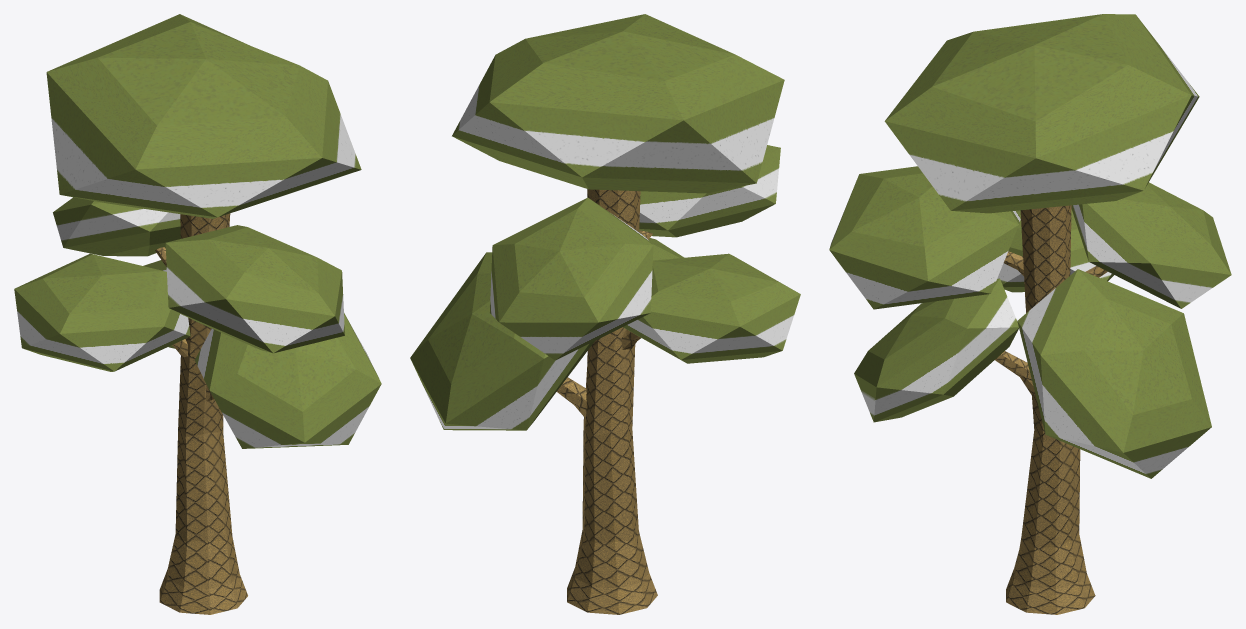
The model's file is tree2.obj.
The picture shows the model from 3 angles, left to right: view 1: azimuth 30°, elevation 25°; view 2: azimuth 150°, elevation 25°; view 3: azimuth 270°, elevation 25°; orthographic projection. The views are drawn at different scales.
Visible parts, largest first — view 1: Icosphere.001, wood_Cylinder.009; view 2: Icosphere.001, wood_Cylinder.009; view 3: Icosphere.001, wood_Cylinder.009.
Part boxes in pixels (x1,y1,x2,y2): Icosphere.001: [14, 14, 381, 448]; wood_Cylinder.009: [155, 213, 247, 614]; Icosphere.001: [410, 14, 800, 430]; wood_Cylinder.009: [556, 189, 657, 614]; Icosphere.001: [829, 14, 1231, 478]; wood_Cylinder.009: [995, 205, 1107, 614].
Size of the model in its own units: 1.86 by 2.91 by 1.93.
Materials: 2 (2 with a texture image).
